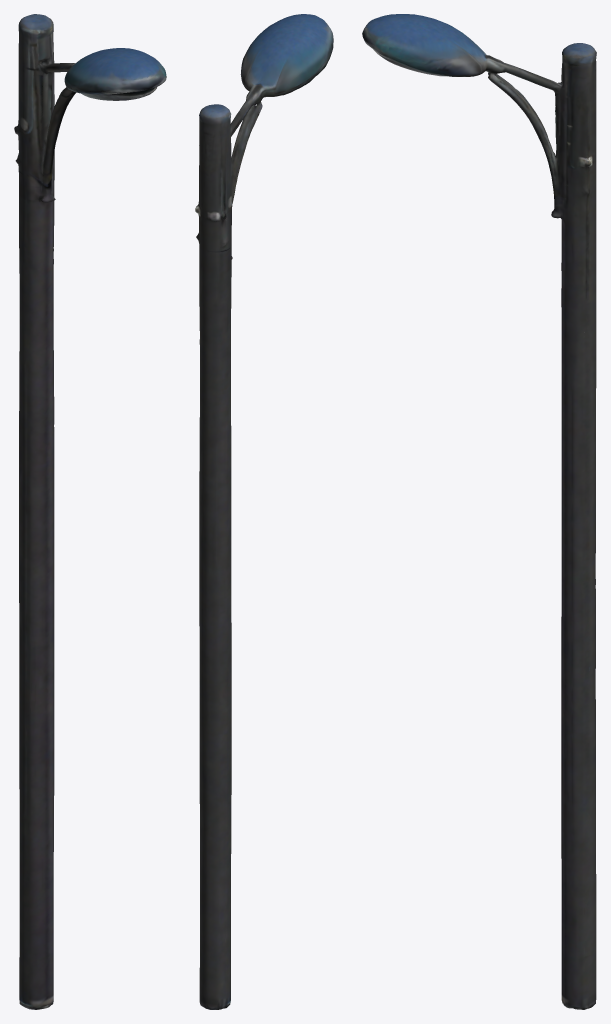
Rendered from Modern_Street_Light_0310095743_texture.fbx.
3 renders of one model, left to right at view 1: azimuth 30°, elevation 25°; view 2: azimuth 150°, elevation 25°; view 3: azimuth 270°, elevation 25°, orthographic. The views are drawn at different scales.
Parts seen in each view (by area): view 1: Mesh1_Mesh1.005; view 2: Mesh1_Mesh1.005; view 3: Mesh1_Mesh1.005.
Part boxes in pixels (bbox=[...]): Mesh1_Mesh1.005: bbox=[14, 14, 166, 1009]; Mesh1_Mesh1.005: bbox=[195, 14, 333, 1009]; Mesh1_Mesh1.005: bbox=[362, 14, 596, 1009].
Size of the model in its own units: 16.51 by 200 by 43.21.
1 material, 1 textured.
